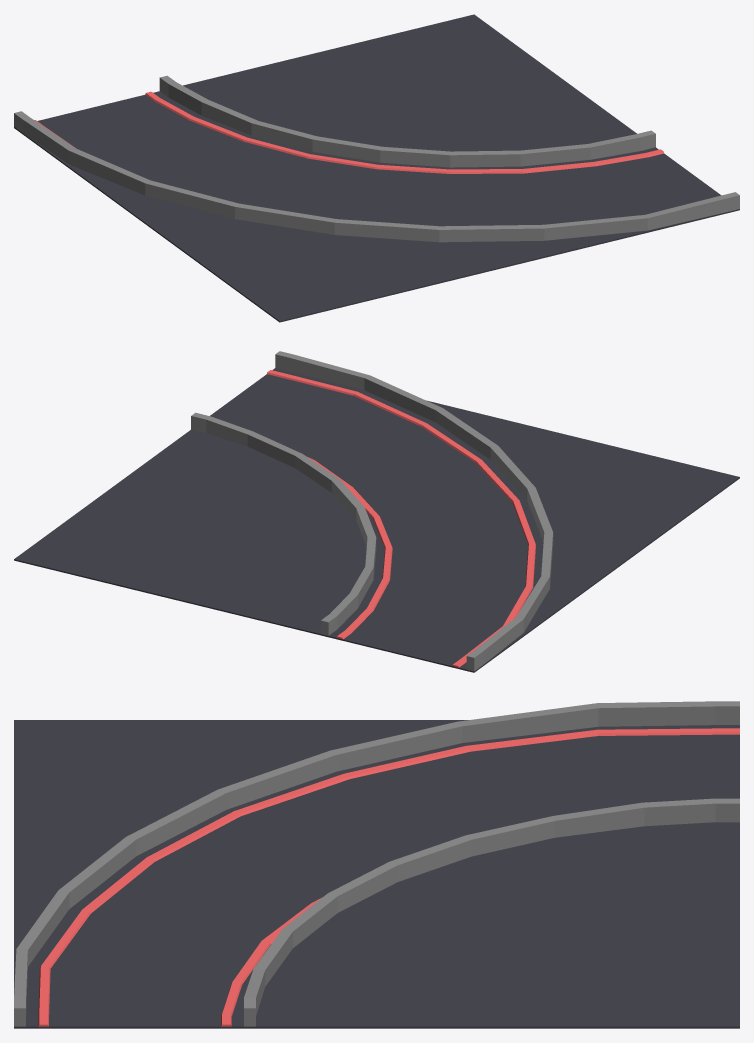
The model's file is kartkids_base_trk_520_trn_90_l_3x3.glb.
3 views of the same model, one above another, from view 1: azimuth 30°, elevation 25°; view 2: azimuth 150°, elevation 25°; view 3: azimuth 270°, elevation 25° (orthographic). The views are drawn at different scales.
Parts seen in each view (by area): view 1: kartkids_base_trk_010_rd_straight_1x1.090, kartkids_base_trk_020_trn_90_l_1x1.081360trn.001, kartkids_base_trk_020_trn_90_l_1x1.080360trn.001; view 2: kartkids_base_trk_010_rd_straight_1x1.090, kartkids_base_trk_020_trn_90_l_1x1.081360trn.001, kartkids_base_trk_020_trn_90_l_1x1.080360trn.001; view 3: kartkids_base_trk_010_rd_straight_1x1.090, kartkids_base_trk_020_trn_90_l_1x1.081360trn.001, kartkids_base_trk_020_trn_90_l_1x1.080360trn.001.
Part boxes in pixels (x1,y1,x2,y2): kartkids_base_trk_010_rd_straight_1x1.090: (14, 14, 739, 322); kartkids_base_trk_020_trn_90_l_1x1.081360trn.001: (14, 75, 739, 242); kartkids_base_trk_020_trn_90_l_1x1.080360trn.001: (34, 91, 664, 173); kartkids_base_trk_010_rd_straight_1x1.090: (14, 368, 739, 672); kartkids_base_trk_020_trn_90_l_1x1.081360trn.001: (191, 351, 553, 671); kartkids_base_trk_020_trn_90_l_1x1.080360trn.001: (267, 370, 535, 667); kartkids_base_trk_010_rd_straight_1x1.090: (14, 720, 739, 1028); kartkids_base_trk_020_trn_90_l_1x1.081360trn.001: (14, 701, 739, 1026); kartkids_base_trk_020_trn_90_l_1x1.080360trn.001: (38, 728, 739, 1026).
Bounding box in the file's own units: 30 × 0.9339 × 30.
